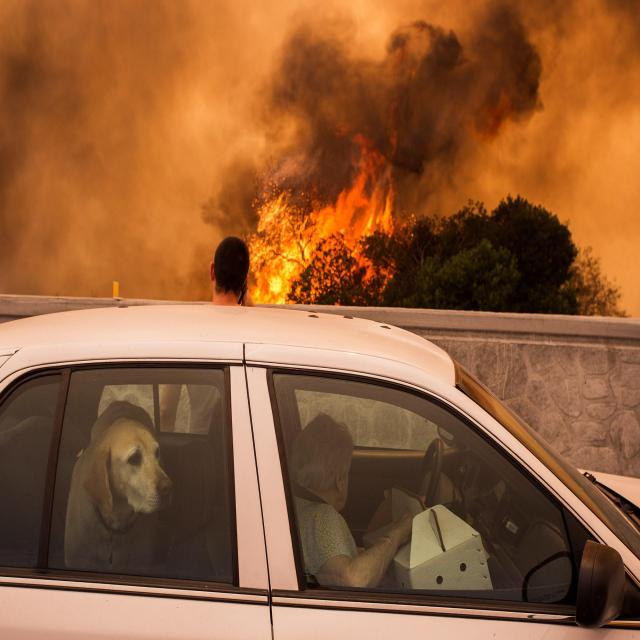Fire: (241, 121, 409, 309)
